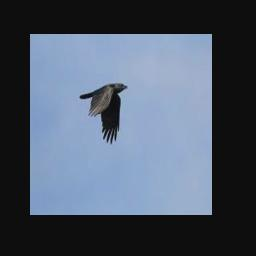Crow: (80, 83, 128, 144)
